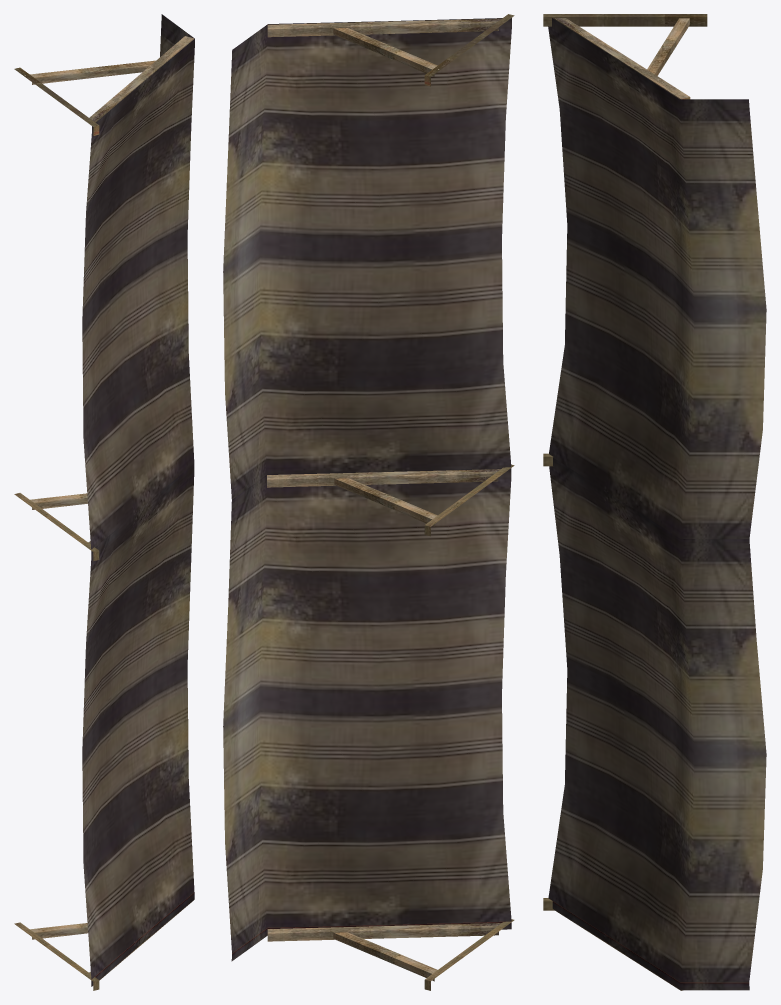
File: awning_desert_market_small.glb
3 renders of one model, left to right at view 1: azimuth 30°, elevation 25°; view 2: azimuth 150°, elevation 25°; view 3: azimuth 270°, elevation 25°, orthographic. The views are drawn at different scales.
Size of the model in its own units: 36.9 by 182 by 41.09.
1 material, 1 textured.
